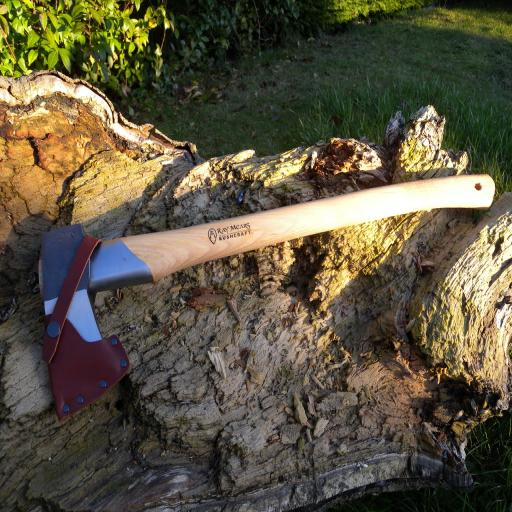Axe: (36, 169, 502, 420)
